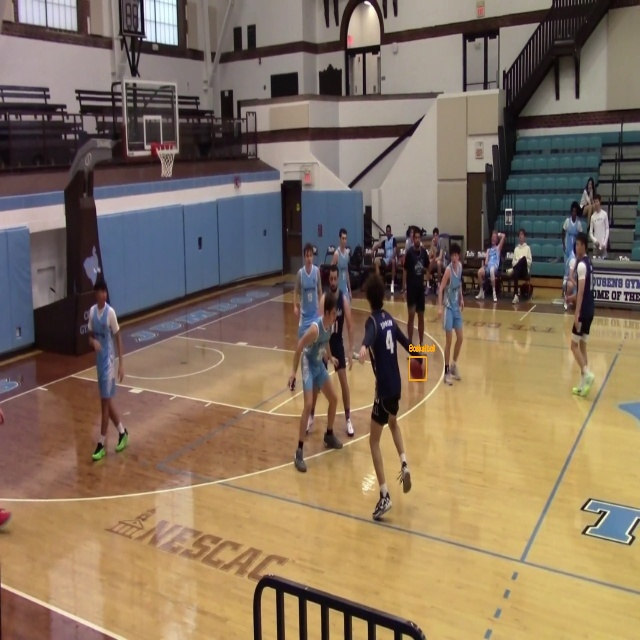Basketball: (409, 357, 426, 380)
